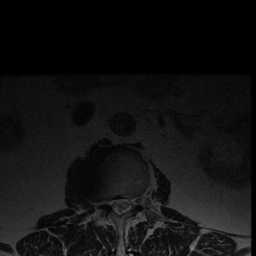CCS_normal: (115, 192, 123, 219)
LFS_normal: (131, 191, 139, 213)
LLS_normal: (123, 192, 131, 217)
RFS_stenosis: (100, 191, 108, 212)
RLS_normal: (108, 191, 115, 215)
